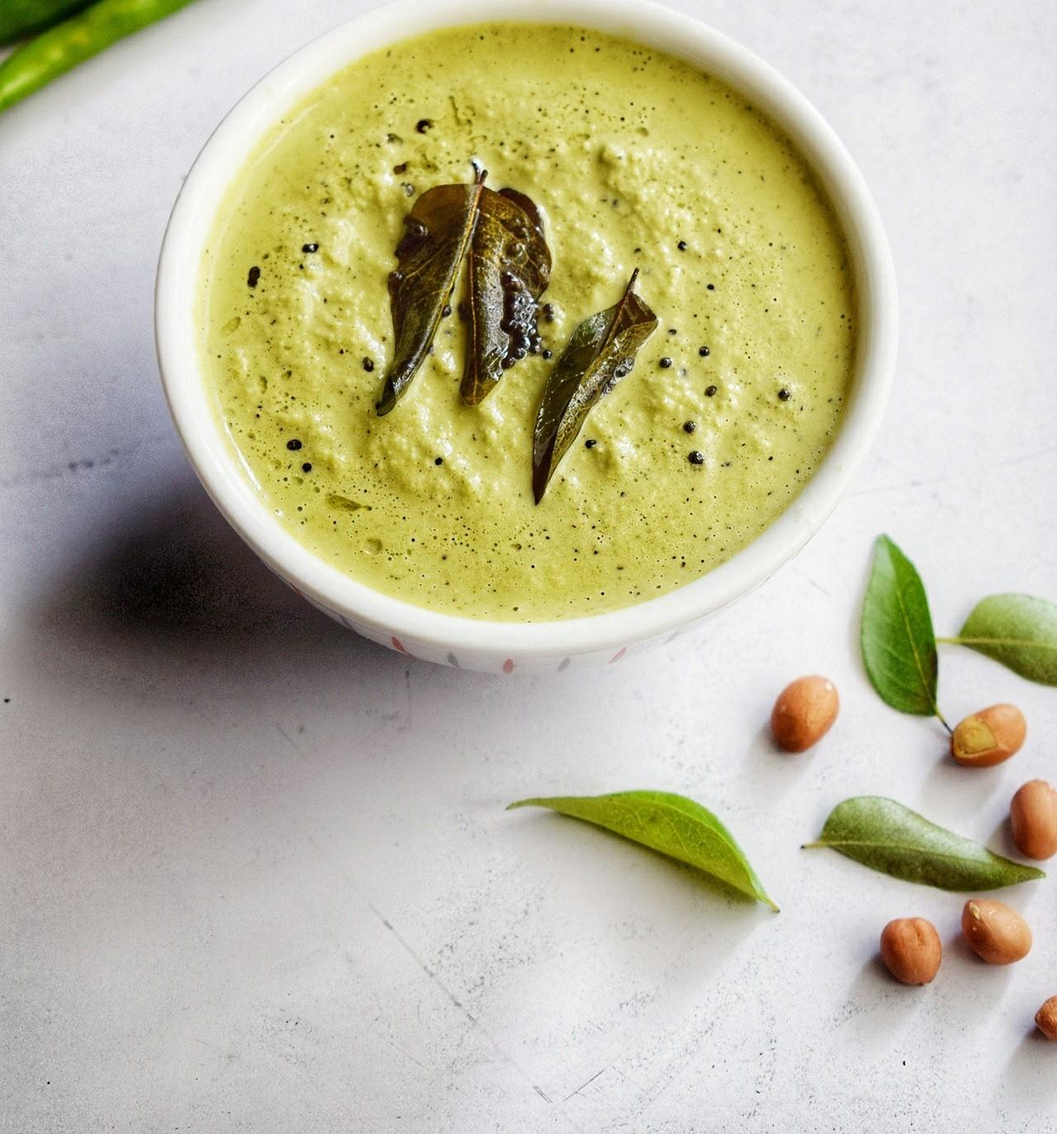CoconutChutney: (205, 21, 853, 622)
